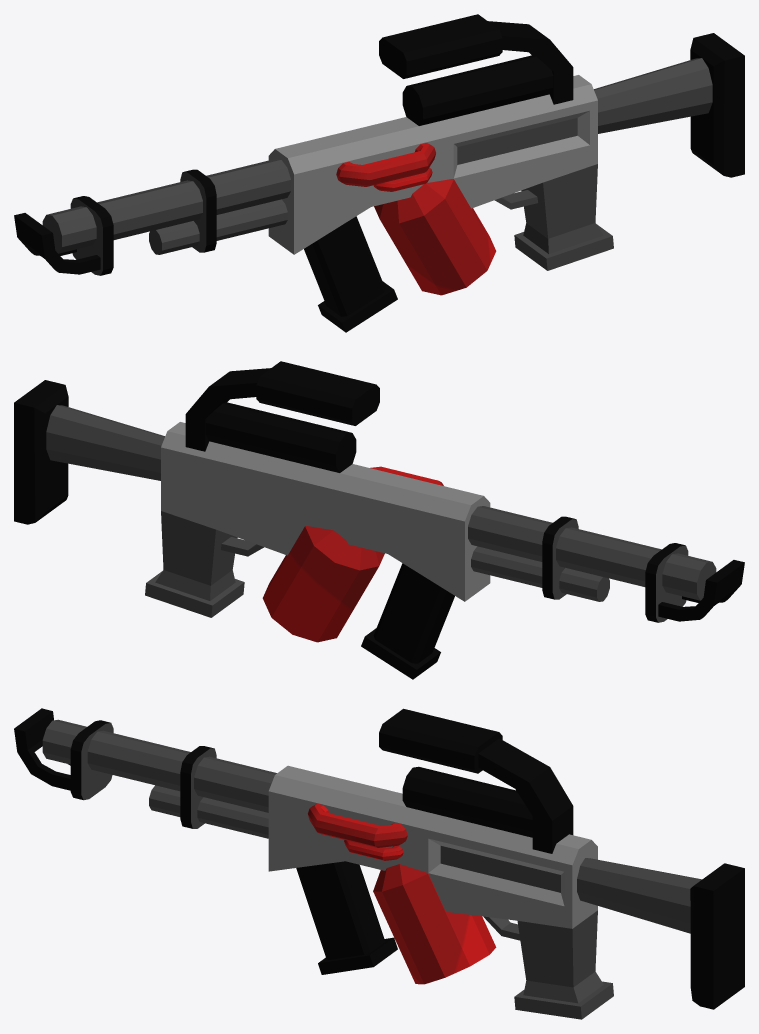
Rendered from Flamethrower.fbx.
The picture shows the model from 3 angles, top to bottom: view 1: azimuth 30°, elevation 25°; view 2: azimuth 150°, elevation 25°; view 3: azimuth 330°, elevation 25°; orthographic projection.
Visible parts, largest first — view 1: Flamethrower; view 2: Flamethrower; view 3: Flamethrower.
Boxes of the visible parts, left/top/right/bottom form: Flamethrower: left=14, top=14, right=744, bottom=332; Flamethrower: left=14, top=361, right=744, bottom=679; Flamethrower: left=14, top=708, right=744, bottom=1019.
Size of the model in its own units: 146 by 52.55 by 17.34.
Materials: 1 (1 with a texture image).
